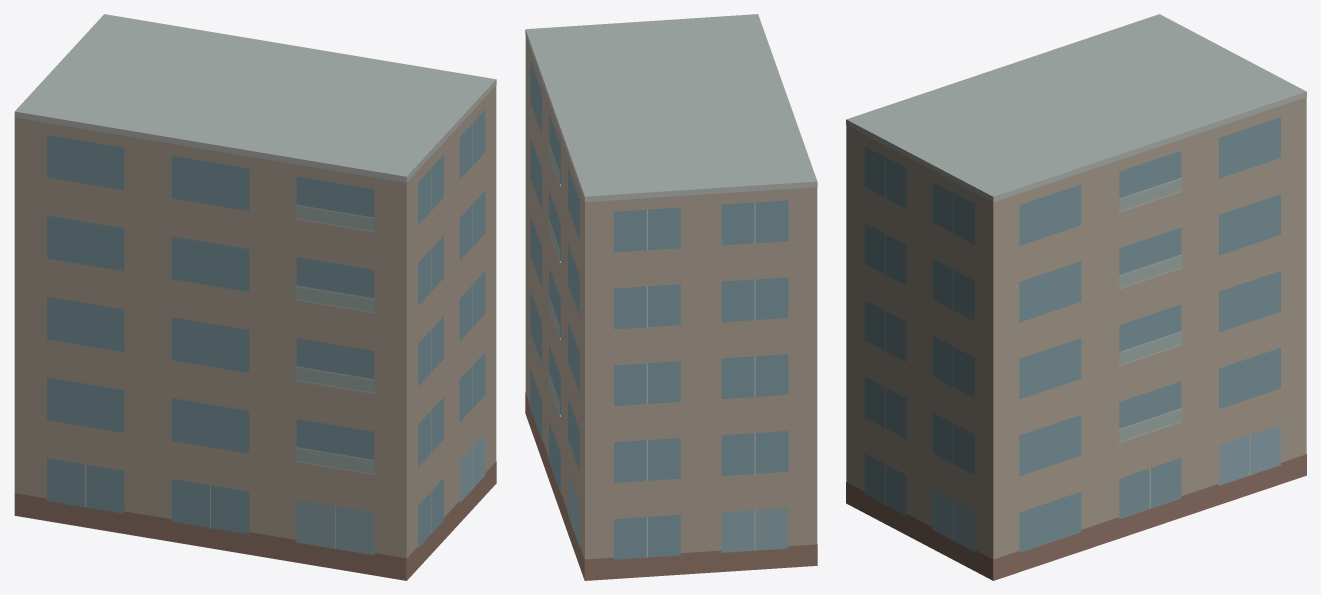
Rendered from survey-upis-33037488.glb.
The picture shows the model from 3 angles, left to right: view 1: azimuth 30°, elevation 25°; view 2: azimuth 150°, elevation 25°; view 3: azimuth 270°, elevation 25°; orthographic projection. The views are drawn at different scales.
Parts seen in each view (by area): view 1: survey-upis-33037488.tmp; view 2: survey-upis-33037488.tmp; view 3: survey-upis-33037488.tmp.
Part boxes in pixels (x1=…): survey-upis-33037488.tmp: x1=14, y1=14, x2=496, y2=580; survey-upis-33037488.tmp: x1=525, y1=14, x2=817, y2=580; survey-upis-33037488.tmp: x1=846, y1=14, x2=1306, y2=580.
Bounding box in the file's own units: 17.17 × 16.8 × 18.27.
